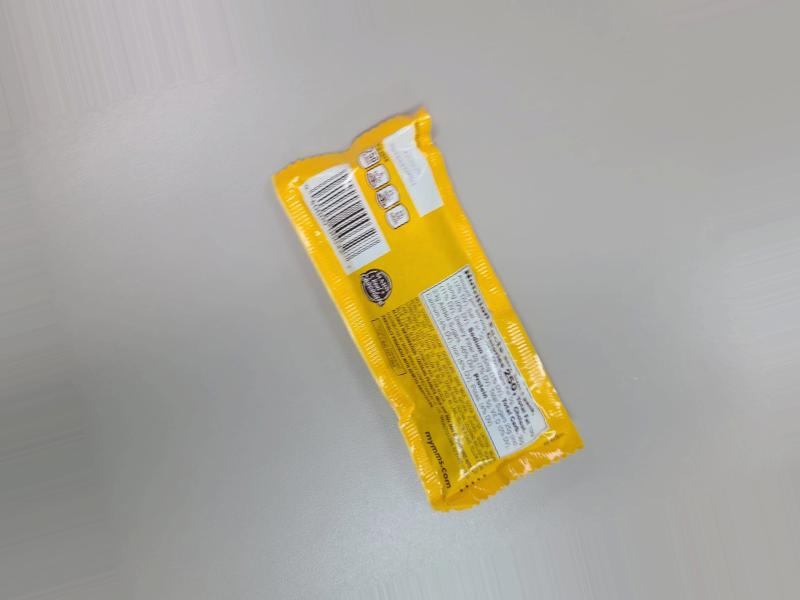m&m: (244, 52, 591, 550)
